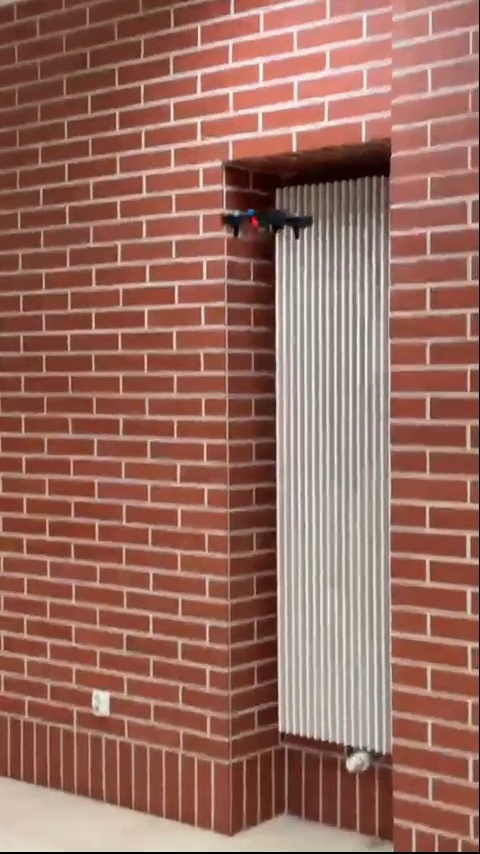drone: (211, 207, 316, 237)
